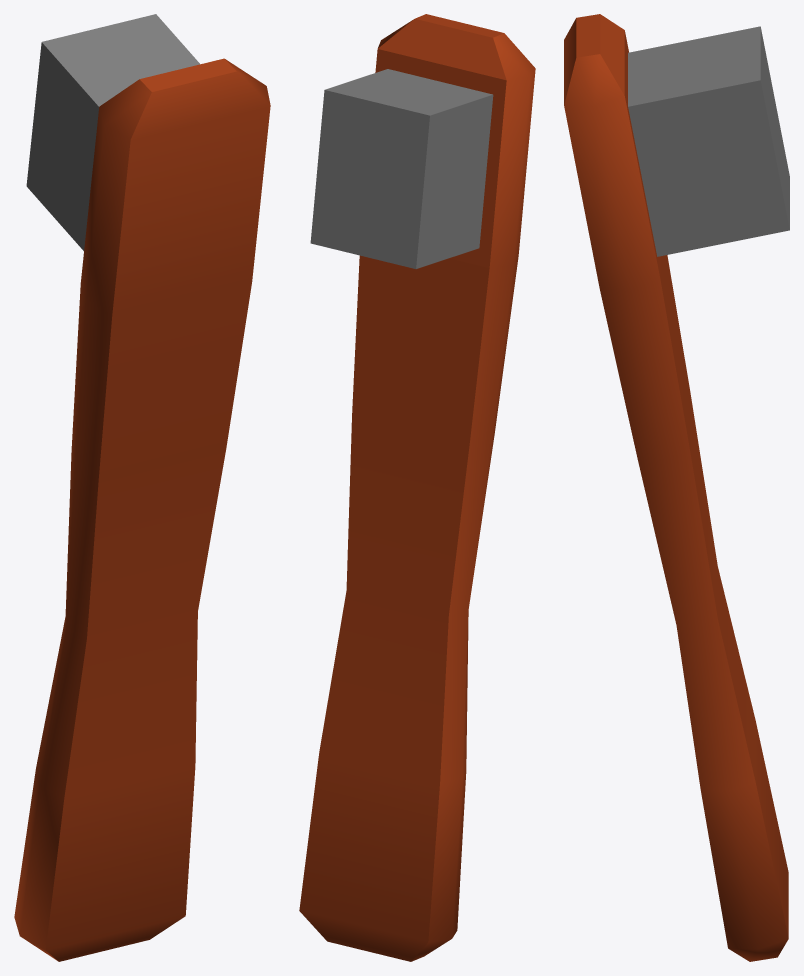
The model's file is CarlesCepilloDientes.fbx.
3 renders of one model, left to right at view 1: azimuth 30°, elevation 25°; view 2: azimuth 150°, elevation 25°; view 3: azimuth 270°, elevation 25°, orthographic. The views are drawn at different scales.
Parts seen in each view (by area): view 1: CepilloDientes; view 2: CepilloDientes; view 3: CepilloDientes.
Boxes of the visible parts, x1,y1,x2,y2 form: CepilloDientes: (14, 14, 270, 961); CepilloDientes: (299, 14, 535, 961); CepilloDientes: (564, 14, 789, 961).
Size of the model in its own units: 1.28 by 7.09 by 1.6.
